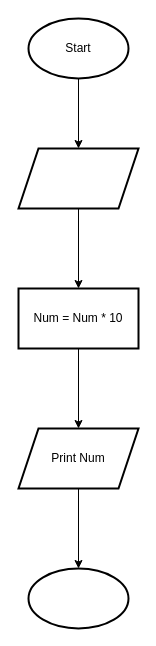
The diagram is 156 pixels wide and 646 high, and some of its shapes have lost their labels. The centre of each missing label's shape, as x and y in pixels:
Enter Num: [78,178]
Stop: [78,598]
